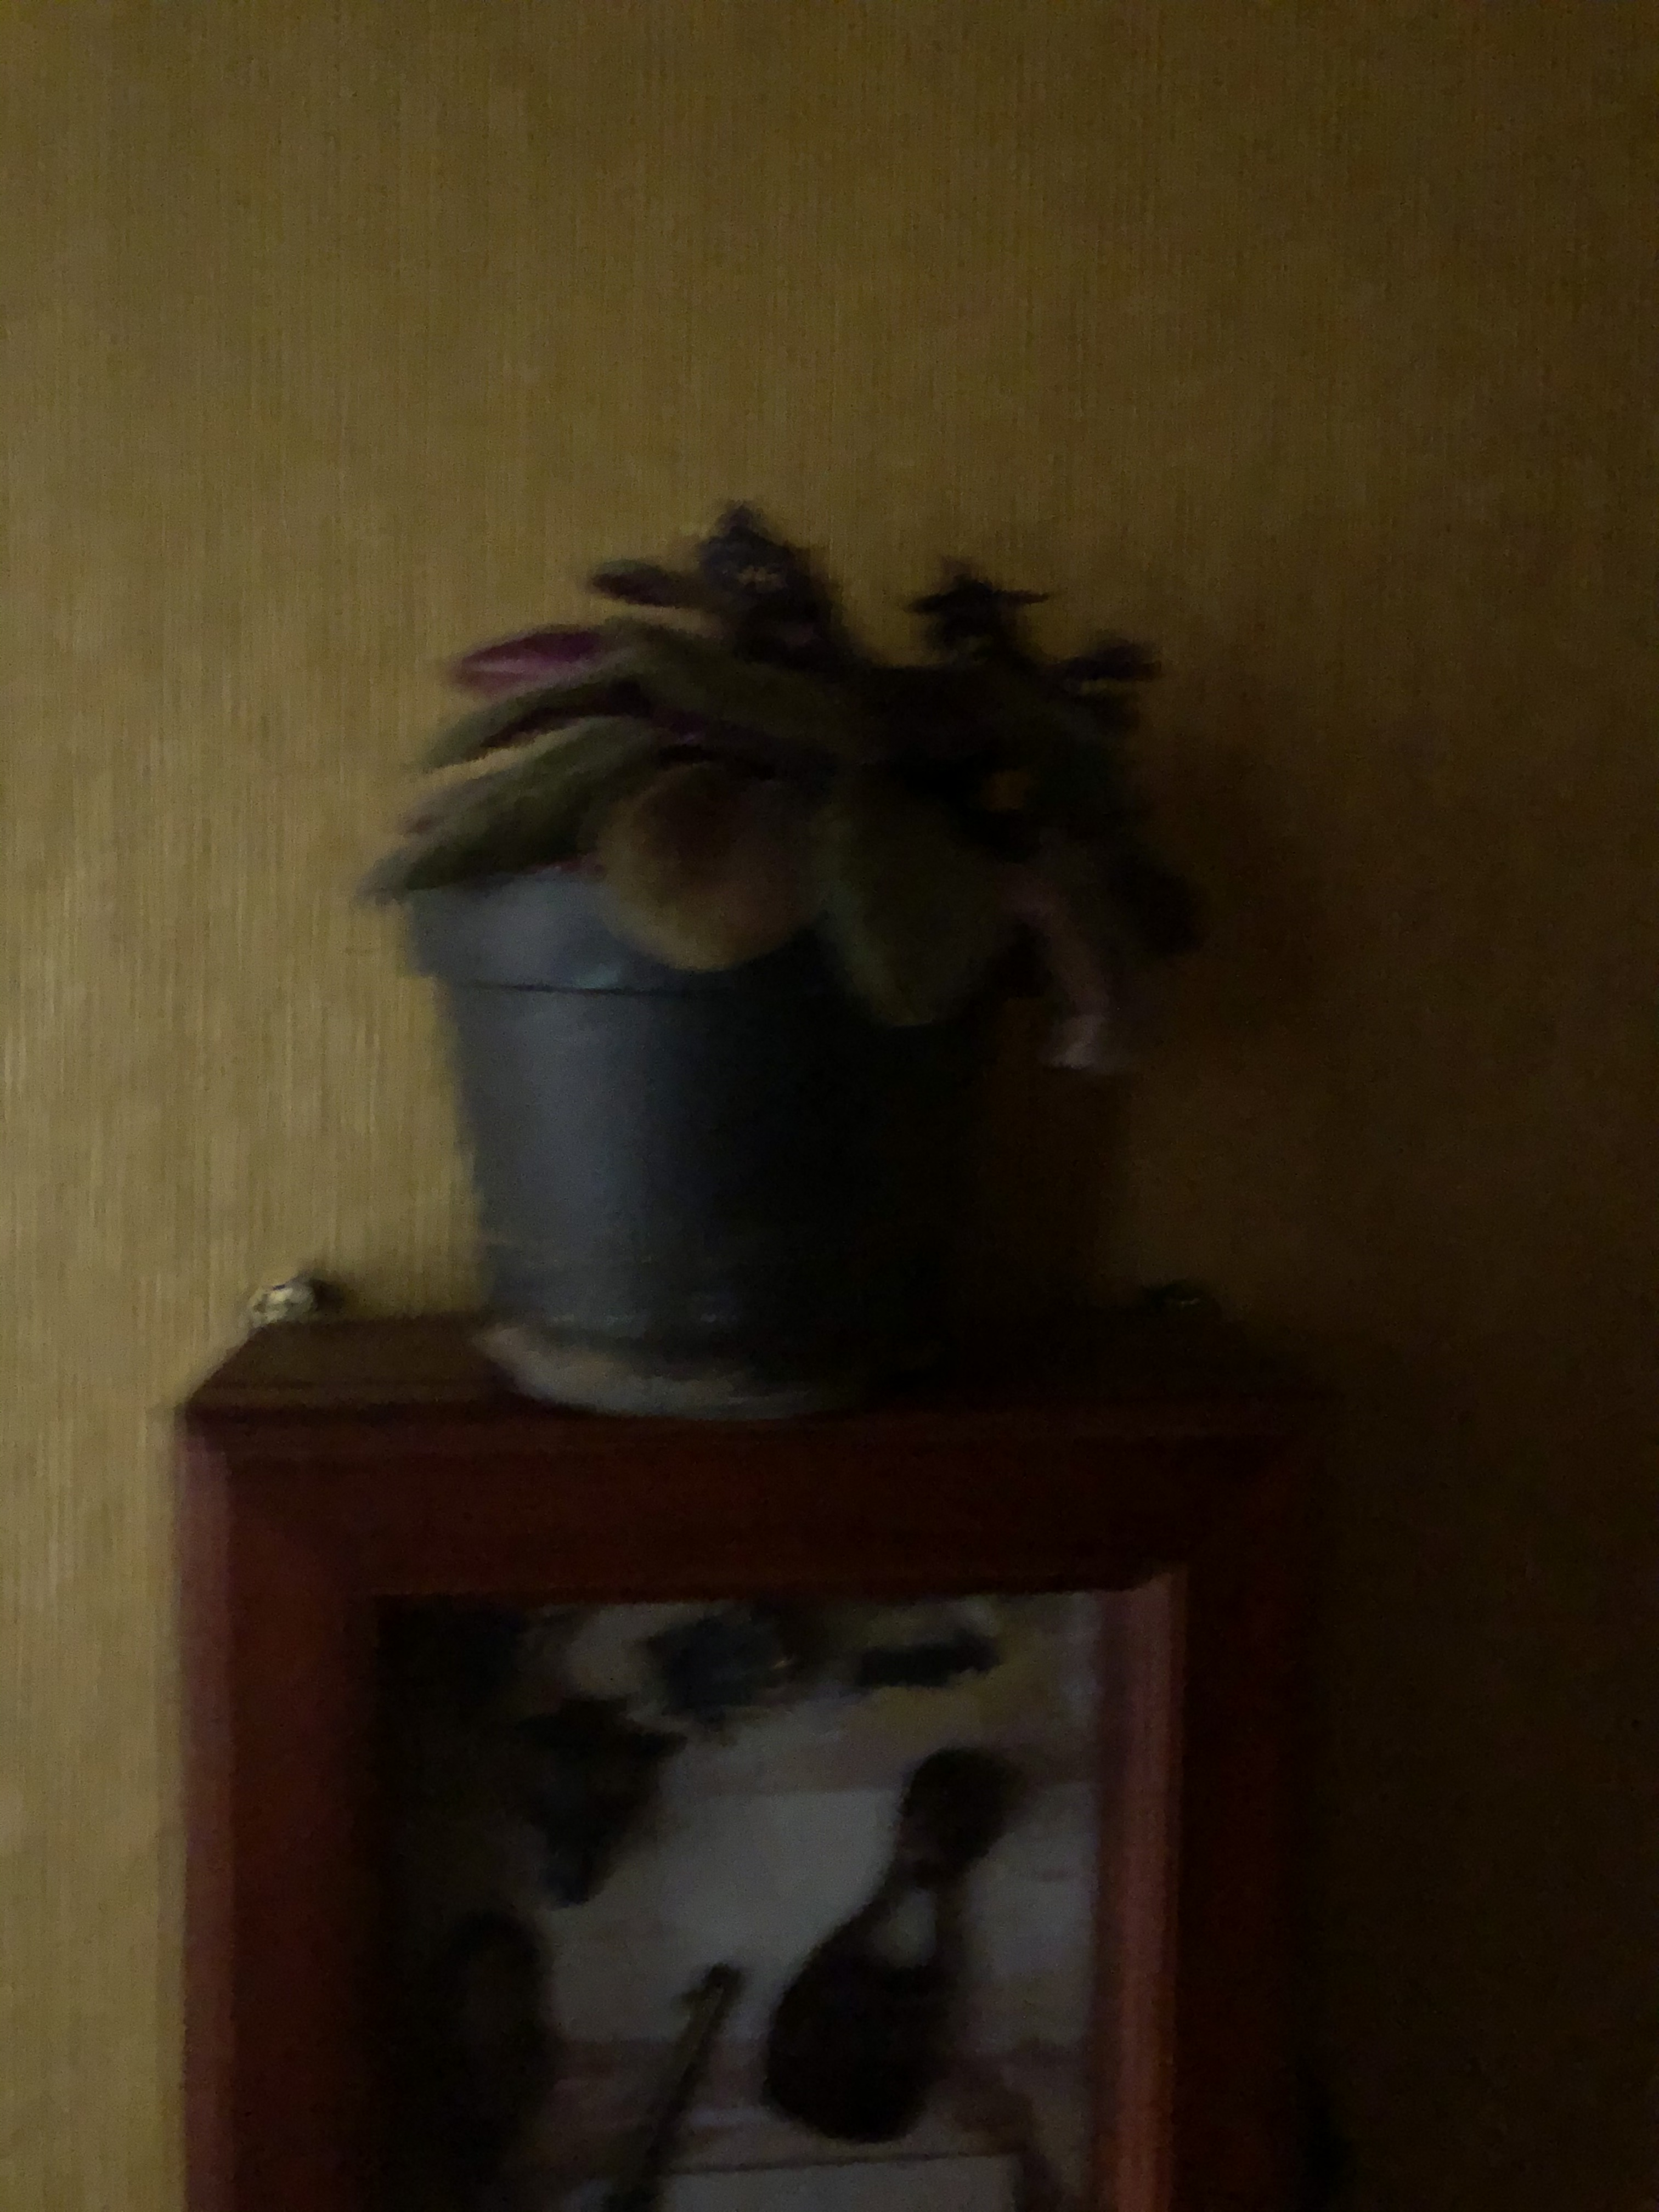ignore: (298, 481, 1218, 1064)
